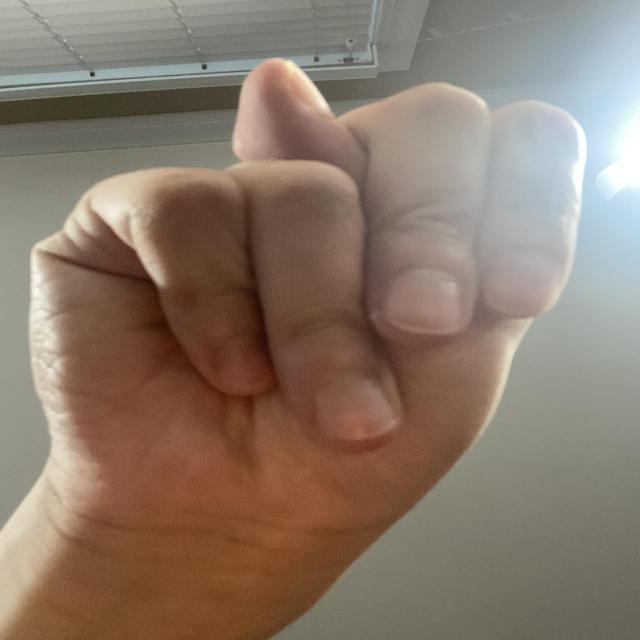N: (0, 52, 598, 551)
